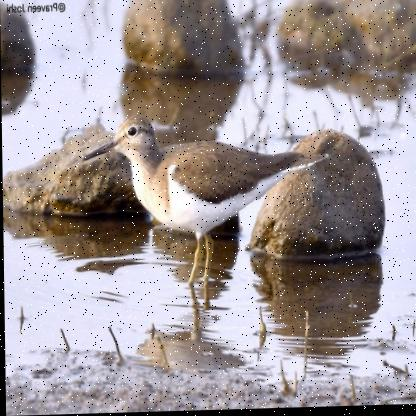Burung: (83, 110, 330, 304)
